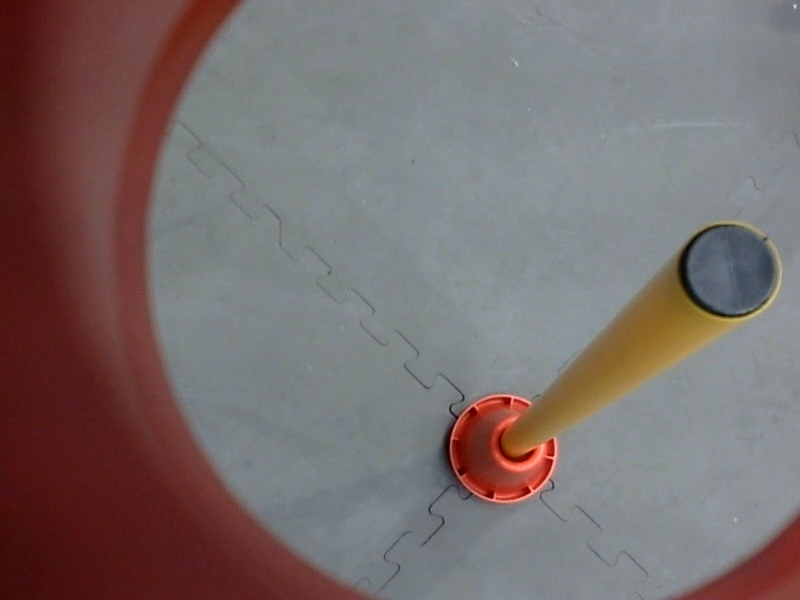tip: (669, 213, 790, 331)
